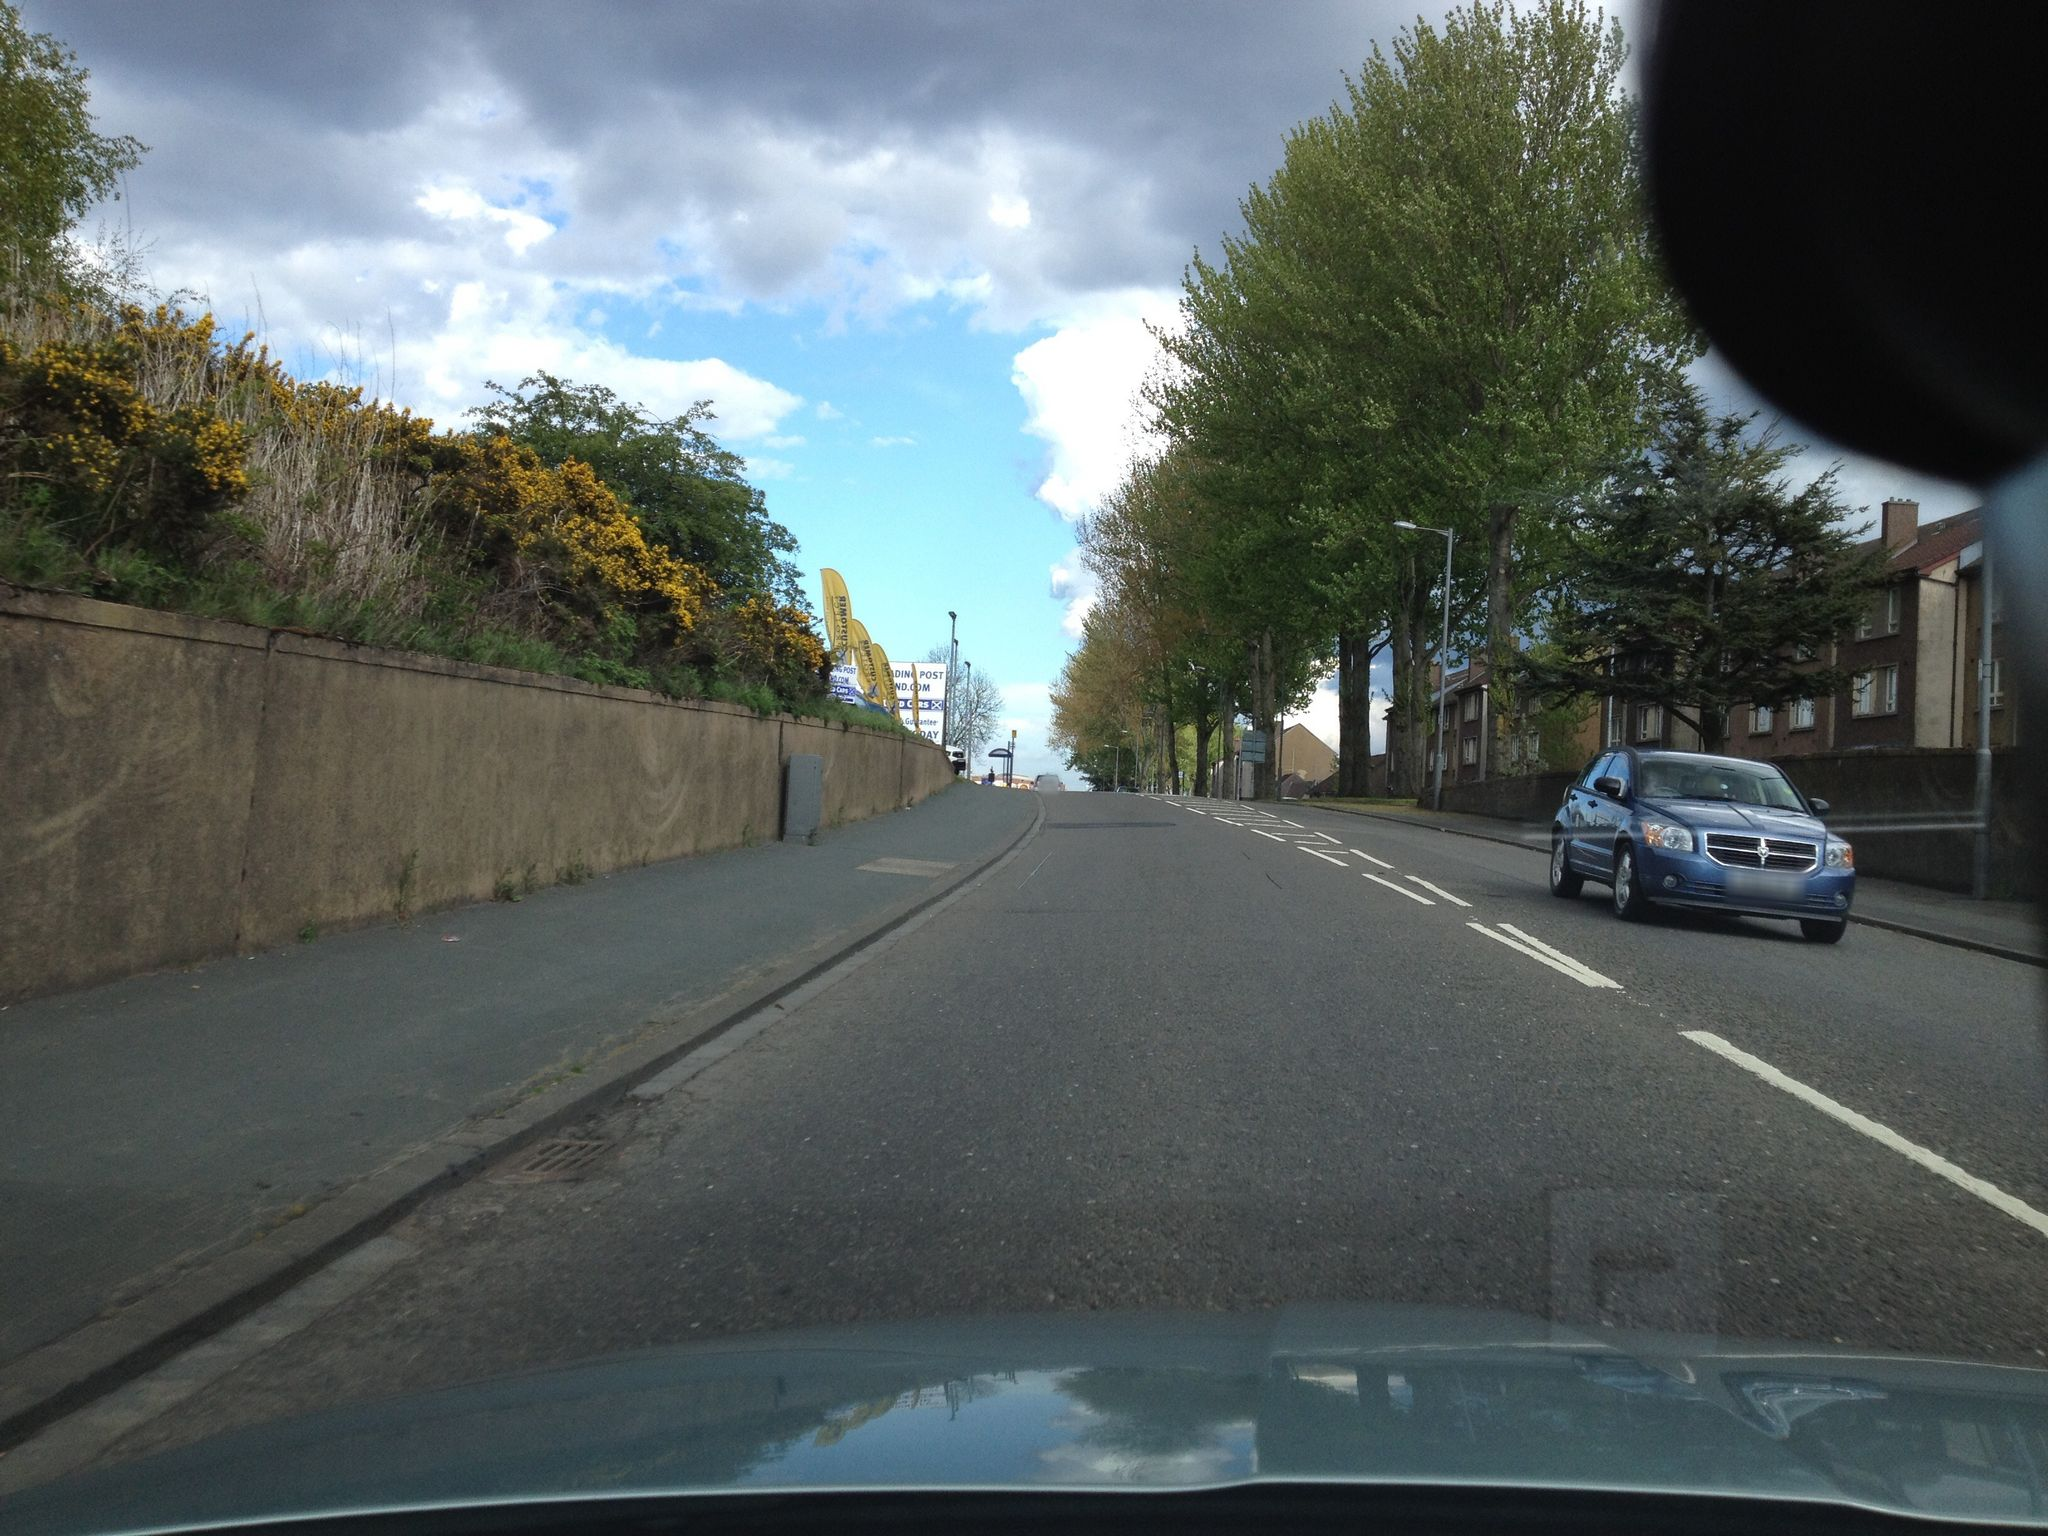car: (1550, 745, 1858, 945)
